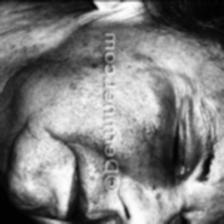Toxin: (56, 80, 98, 138), (134, 119, 162, 159)
